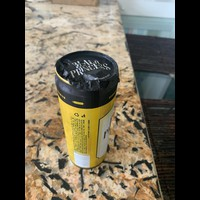blackprincess: (52, 48, 119, 173)
